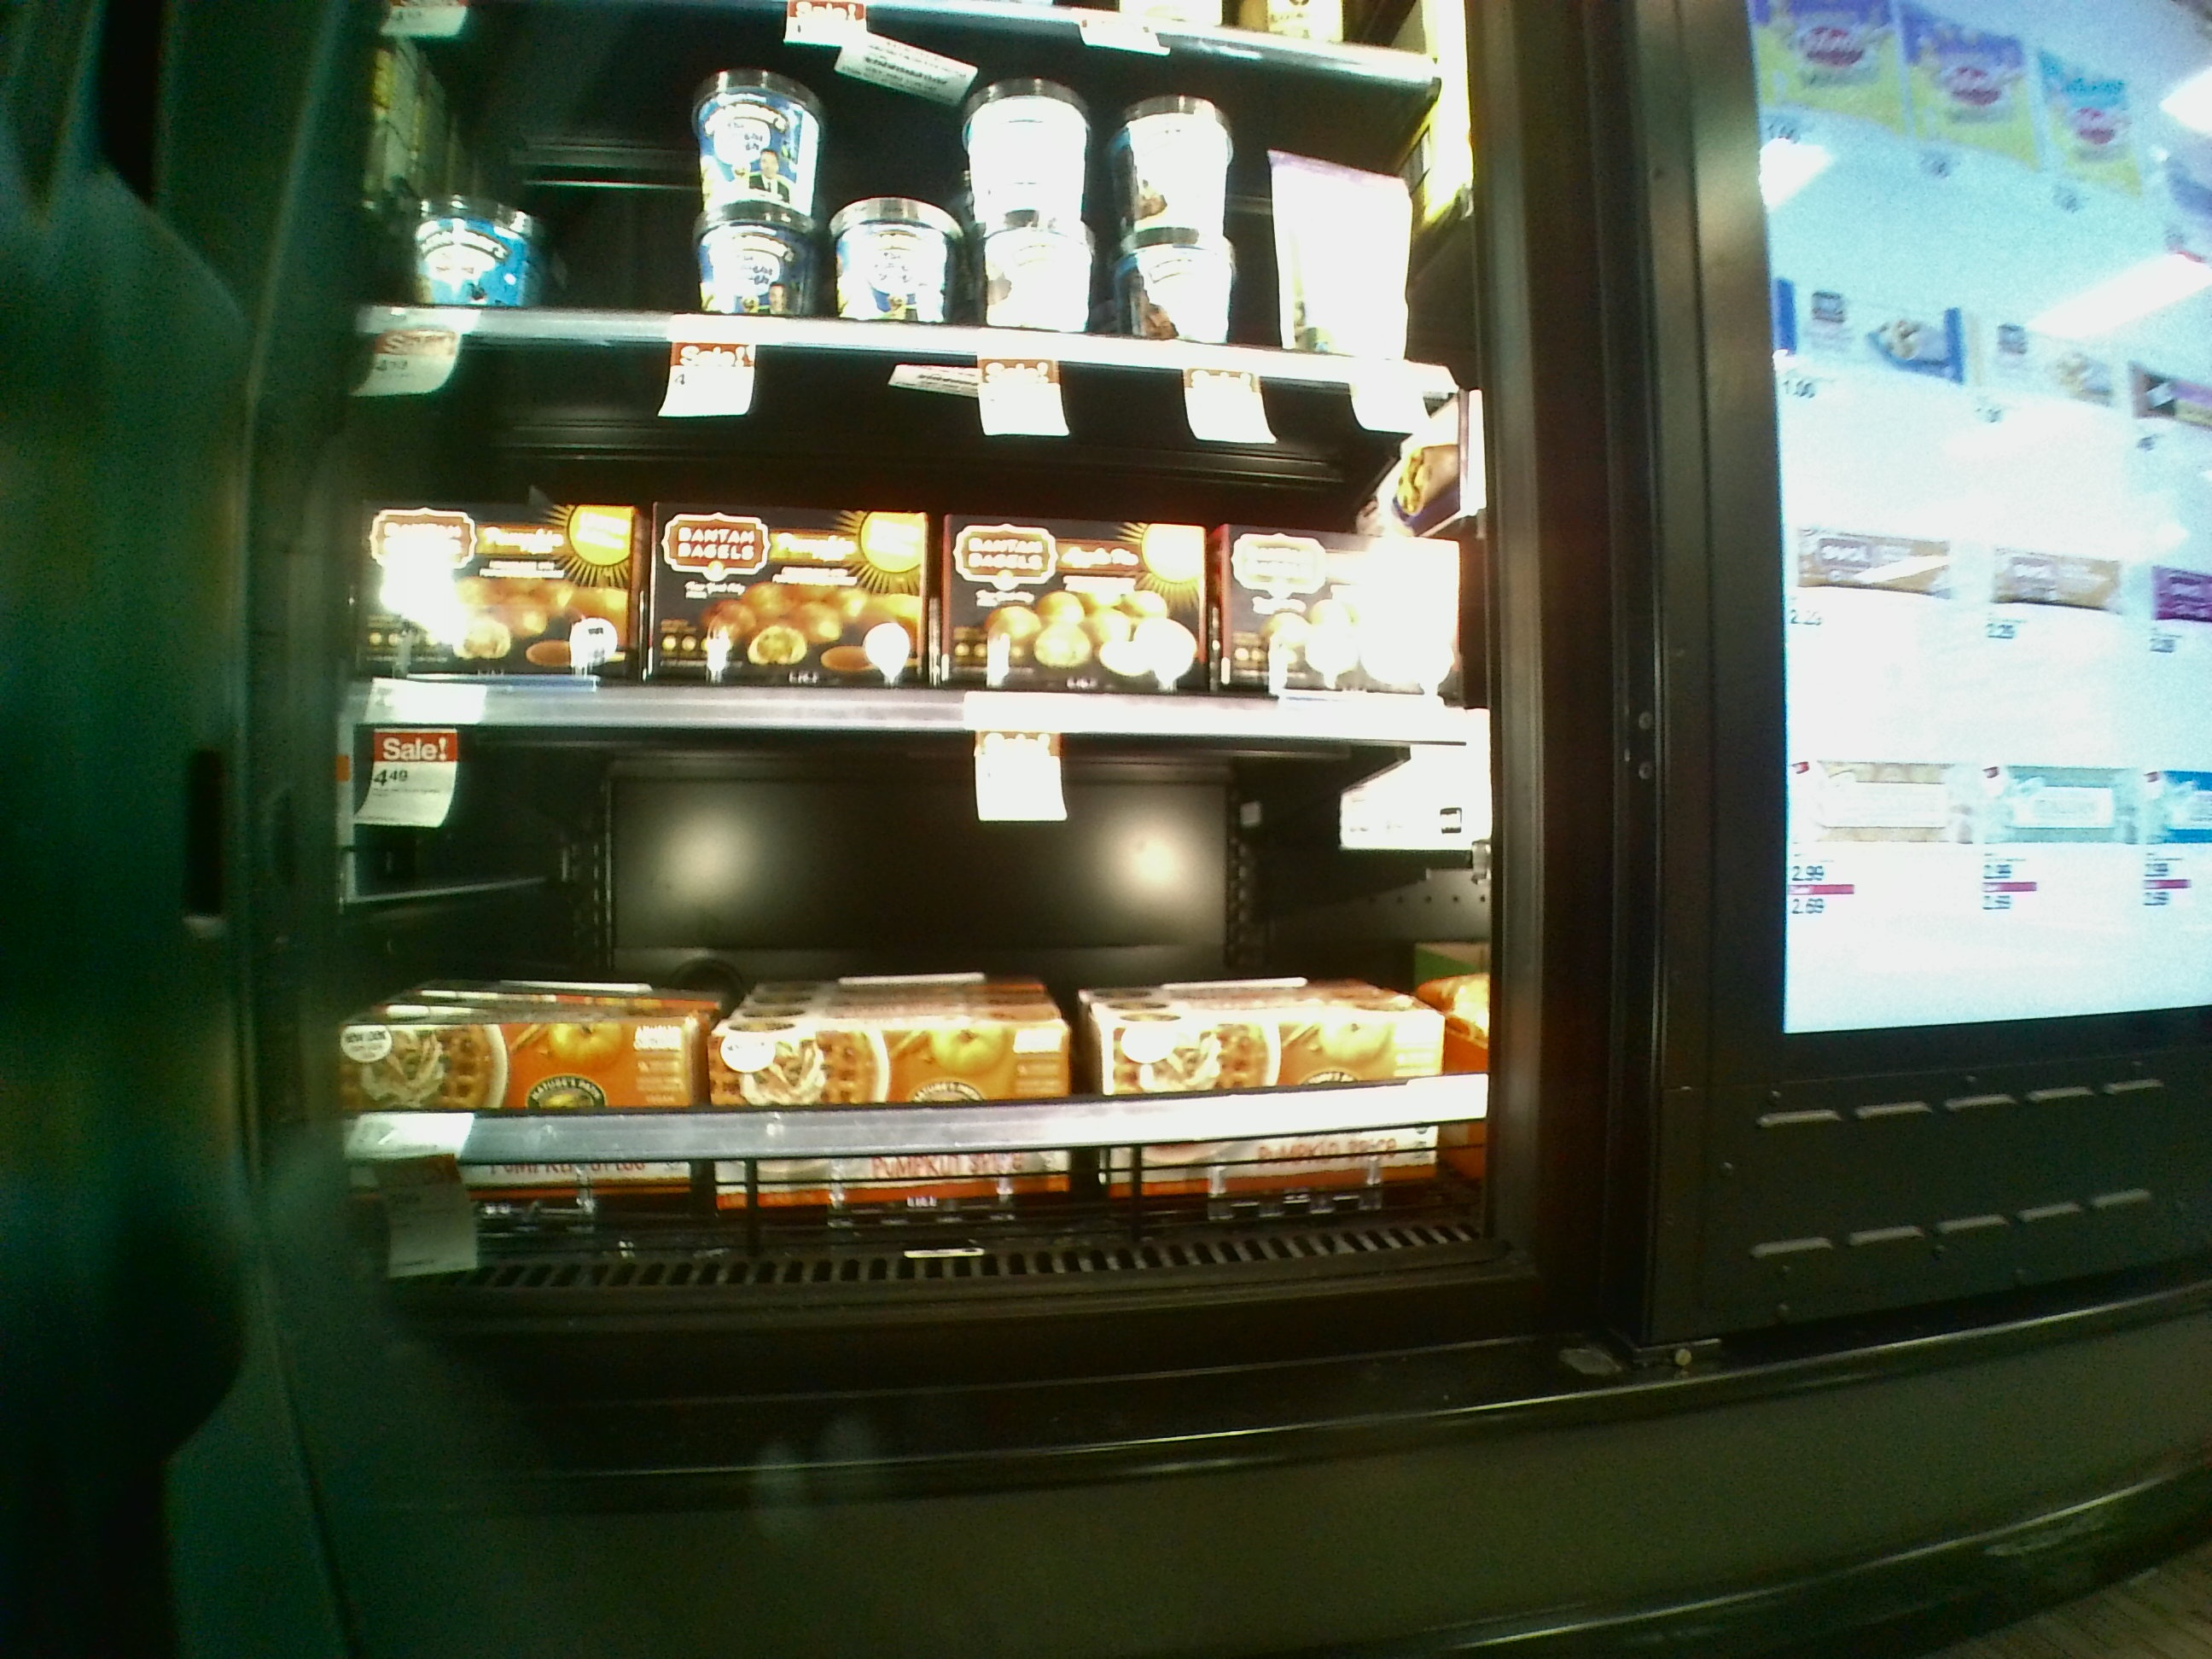shelf: (327, 721, 1503, 1305), (338, 326, 1491, 753)
